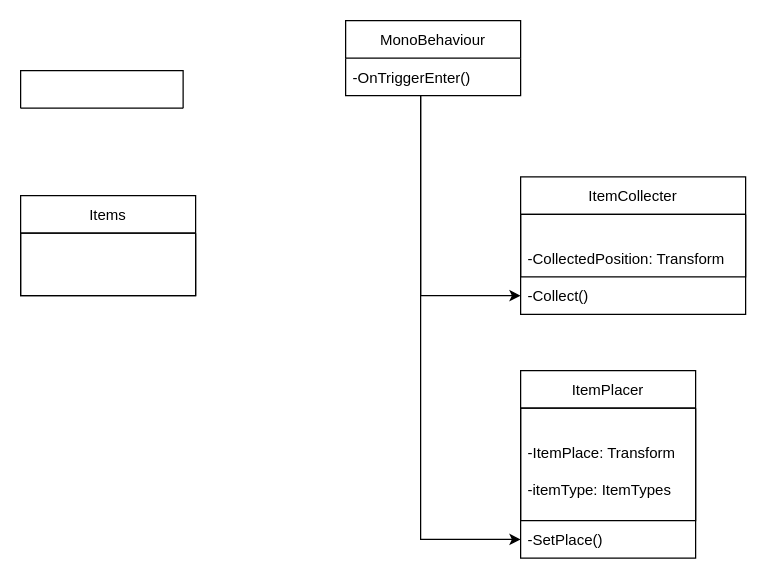
The diagram is 766 pixels wide and 579 high, and some of its shapes have lost their labels. The centre of each missing label's shape, as x and y in pixels:
"+itemType: ItemTypes" belongs at (x=107, y=264).
"ItemTypes: enum" belongs at (x=101, y=88).
